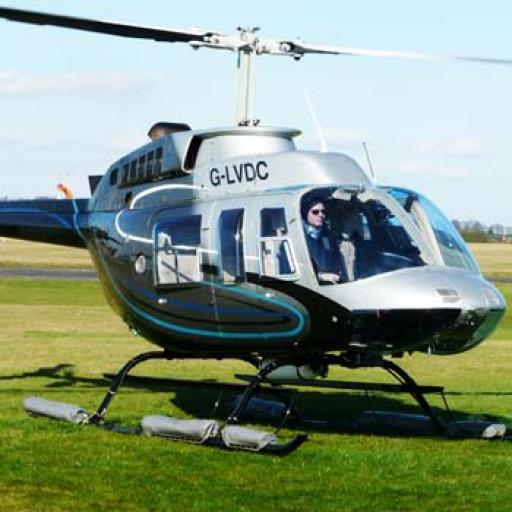helicopter: (26, 10, 500, 465)
